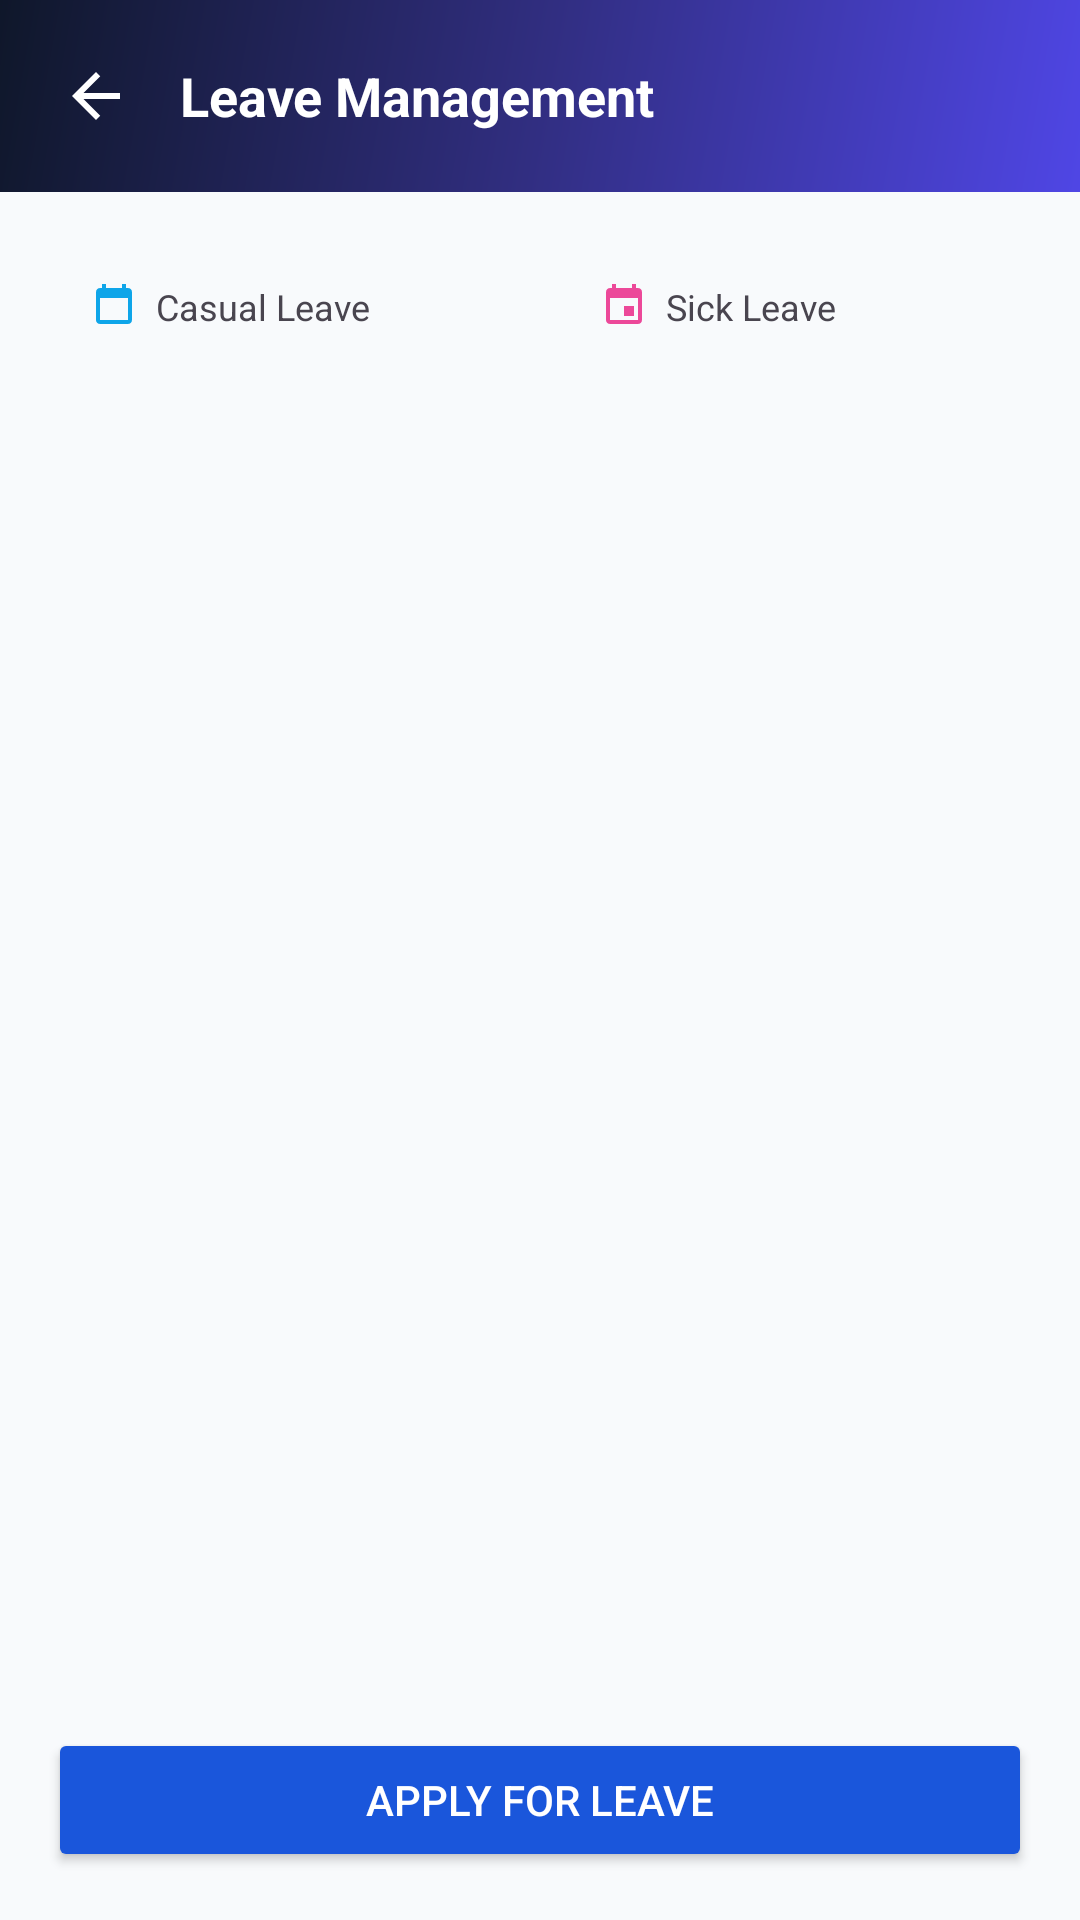

Icon click points for this 1080×1920 phone screenshot, format [x,y]:
calendar: [114,304]
event: [624,304]
